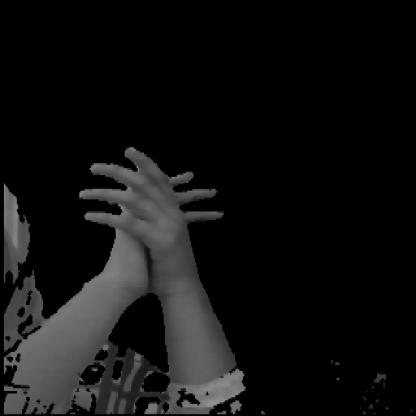clap: (47, 132, 239, 338)
